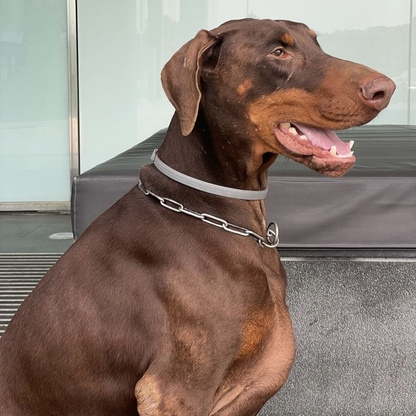doberman: (28, 11, 402, 392)
